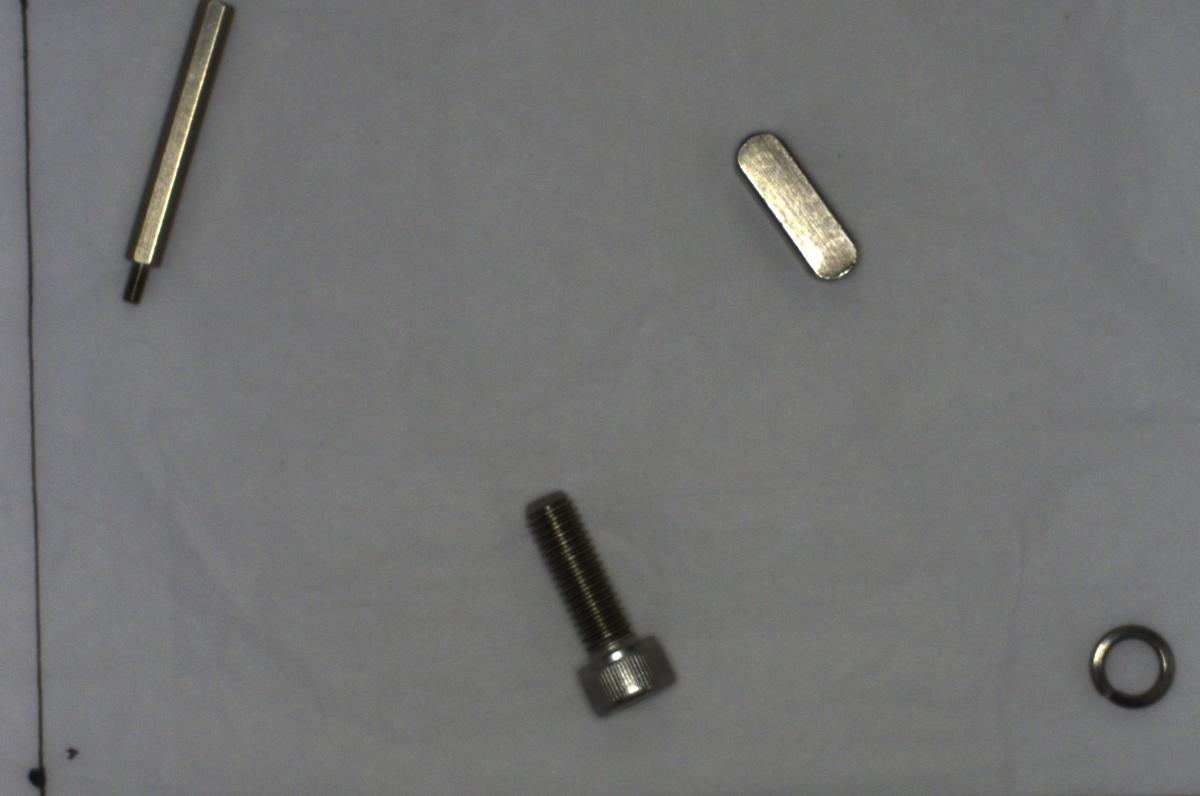Hexagon screw: (511, 479, 690, 726)
Hexagonal steel column: (98, 5, 241, 312)
Keybar: (724, 118, 867, 286)
Spring washer: (1086, 610, 1181, 715)
